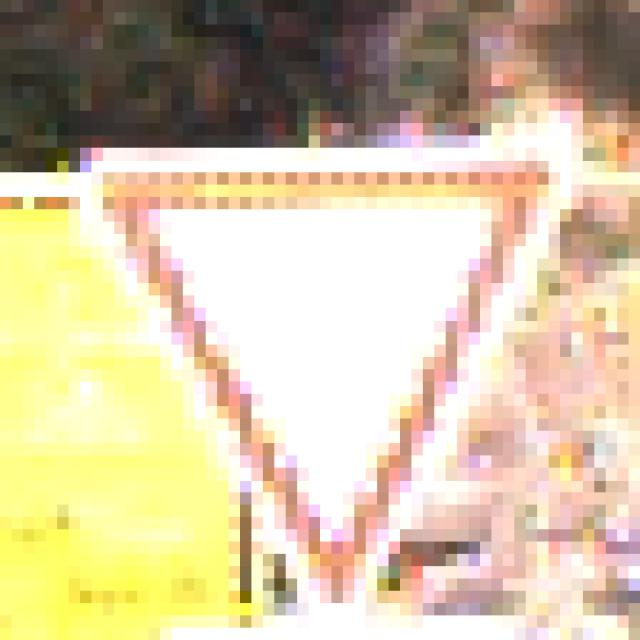Give Way: (58, 75, 584, 567)
